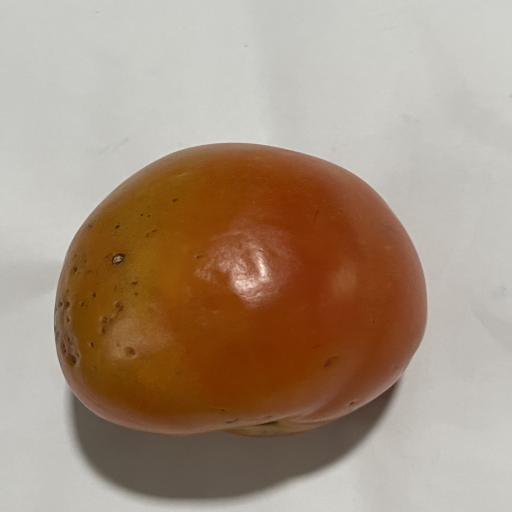overipe: (54, 143, 427, 436)
